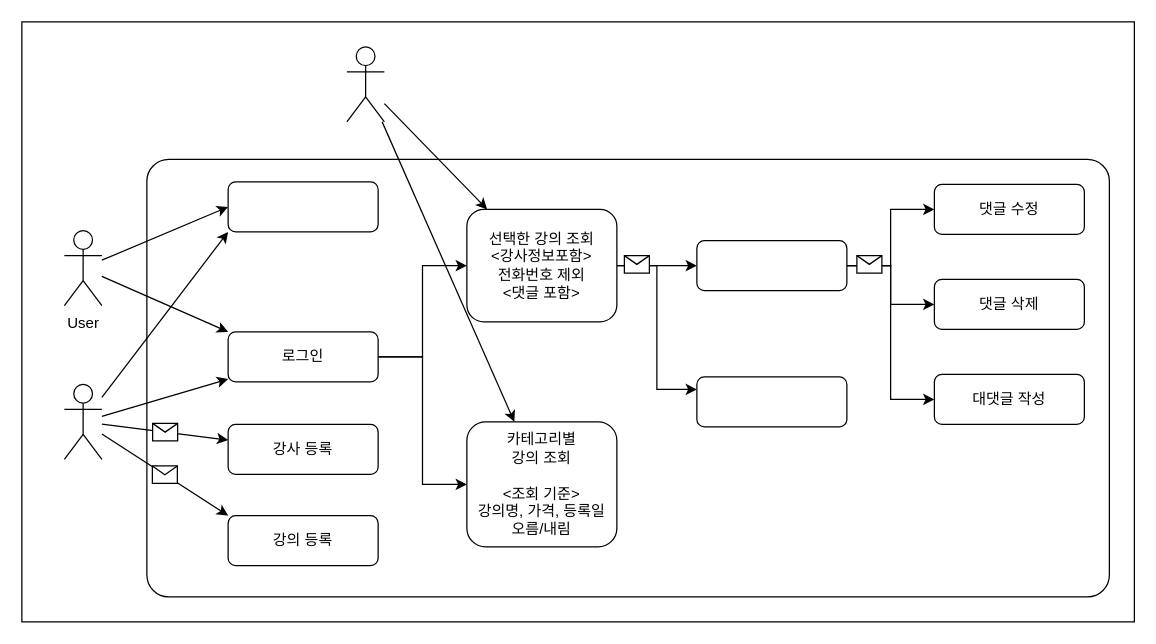
This 1156x644 diagram has some shape labels left out. The shapes that lost their labels are listed below. From the top down, each one's centre as x and y in pixels, then its label:
(x=365, y=84): 비회원
(x=302, y=206): 회원 가입
(x=771, y=265): 댓글 작성
(x=82, y=421): Admin
(x=771, y=401): 좋아요/취소
